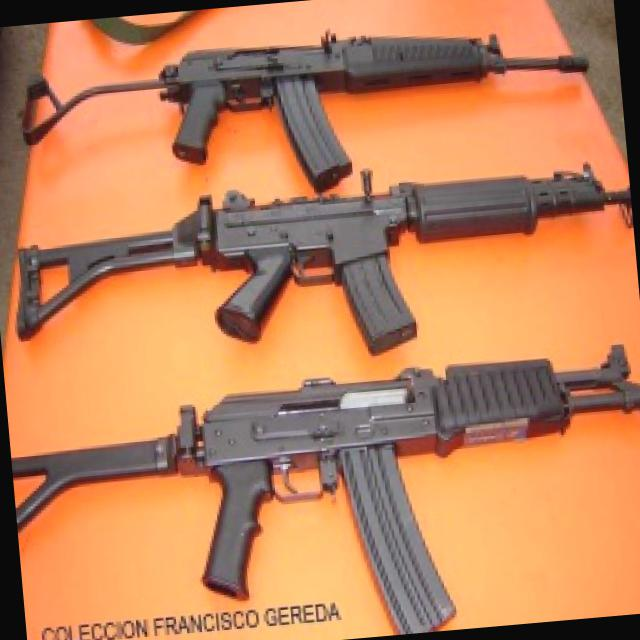long weapon: (24, 339, 639, 639), (6, 0, 610, 209), (22, 170, 608, 374)
